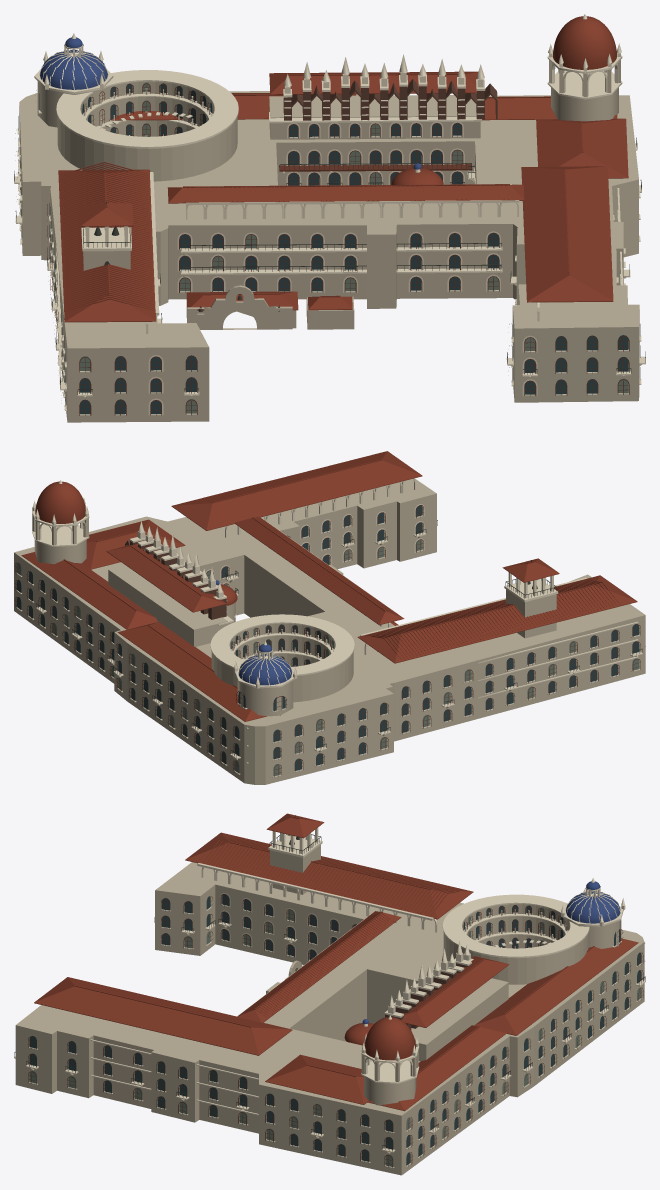
Rendered from mission-inn-near.glb.
3 views of the same model, one above another, from view 1: azimuth 30°, elevation 25°; view 2: azimuth 150°, elevation 25°; view 3: azimuth 270°, elevation 25° (orthographic). The views are drawn at different scales.
Visible parts, largest first — view 1: mission-inn-0-stone, mission-inn-0-roof, mission-inn-0-trim, mission-inn-0-glass, mission-inn-0-wood, mission-inn-0-masonry, mission-inn-0-iron, mission-inn-0-tile, mission-inn-0-glow; view 2: mission-inn-0-stone, mission-inn-0-roof, mission-inn-0-trim, mission-inn-0-glass, mission-inn-0-wood, mission-inn-0-glow, mission-inn-0-tile, mission-inn-0-masonry, mission-inn-0-iron; view 3: mission-inn-0-stone, mission-inn-0-roof, mission-inn-0-trim, mission-inn-0-glass, mission-inn-0-wood, mission-inn-0-glow, mission-inn-0-tile, mission-inn-0-iron, mission-inn-0-masonry.
Part boxes in pixels (x1,y1,x2,y2): mission-inn-0-stone: (19,60,639,422); mission-inn-0-roof: (58,16,628,322); mission-inn-0-trim: (14,14,645,415); mission-inn-0-glass: (18,83,640,414); mission-inn-0-wood: (15,83,629,415); mission-inn-0-masonry: (283,79,497,120); mission-inn-0-iron: (14,137,645,394); mission-inn-0-tile: (40,37,421,169); mission-inn-0-glow: (18,82,640,413); mission-inn-0-stone: (14,479,645,784); mission-inn-0-roof: (21,451,637,721); mission-inn-0-trim: (16,478,645,777); mission-inn-0-glass: (17,505,639,770); mission-inn-0-wood: (14,505,640,777); mission-inn-0-glow: (17,540,639,776); mission-inn-0-tile: (216,580,291,685); mission-inn-0-masonry: (125,540,226,619); mission-inn-0-iron: (36,520,642,757); mission-inn-0-stone: (15,845,644,1175); mission-inn-0-roof: (34,813,638,1111); mission-inn-0-trim: (14,827,645,1168); mission-inn-0-glass: (29,894,641,1165); mission-inn-0-wood: (28,894,643,1167); mission-inn-0-glow: (29,907,641,1166); mission-inn-0-tile: (362,881,620,1023); mission-inn-0-iron: (14,815,645,1151); mission-inn-0-masonry: (382,963,471,1029).
Bounding box in the file's own units: 135 × 32.6 × 134.
